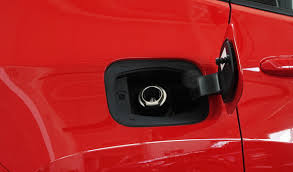open: (101, 53, 215, 128)
